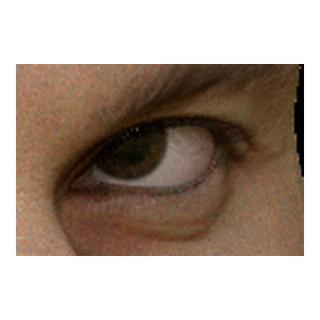pupil: (109, 123, 145, 159)
